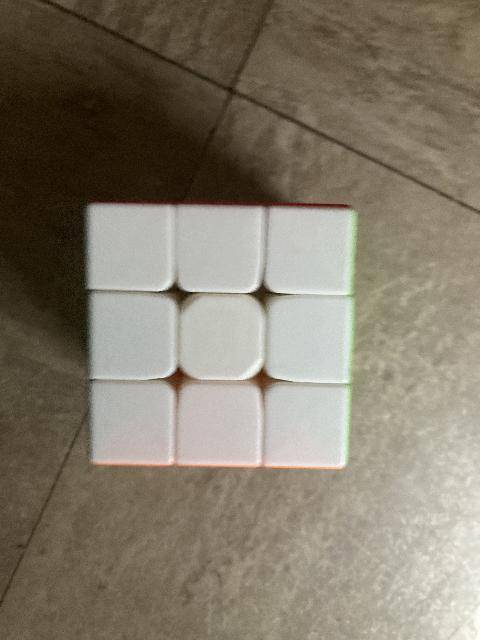White: (88, 205, 172, 292), (93, 297, 175, 379), (273, 208, 353, 292), (178, 207, 258, 289), (92, 383, 174, 462), (183, 298, 262, 378), (270, 298, 348, 379), (181, 386, 264, 462), (270, 388, 344, 464)
